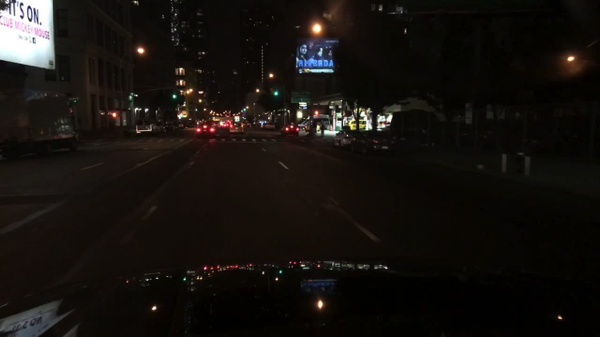car: (352, 129, 402, 158), (331, 131, 359, 148), (303, 115, 329, 132), (134, 119, 158, 135), (195, 122, 216, 138), (281, 121, 300, 135), (348, 119, 367, 130), (229, 122, 244, 134), (157, 121, 167, 133), (174, 121, 184, 129), (264, 123, 277, 129), (167, 123, 174, 132)
person: (318, 120, 325, 136)
traffic light: (274, 88, 278, 96), (172, 91, 176, 98), (270, 88, 273, 96)
traffic sign: (291, 91, 310, 104), (69, 96, 79, 100)
truck: (1, 88, 83, 156)
